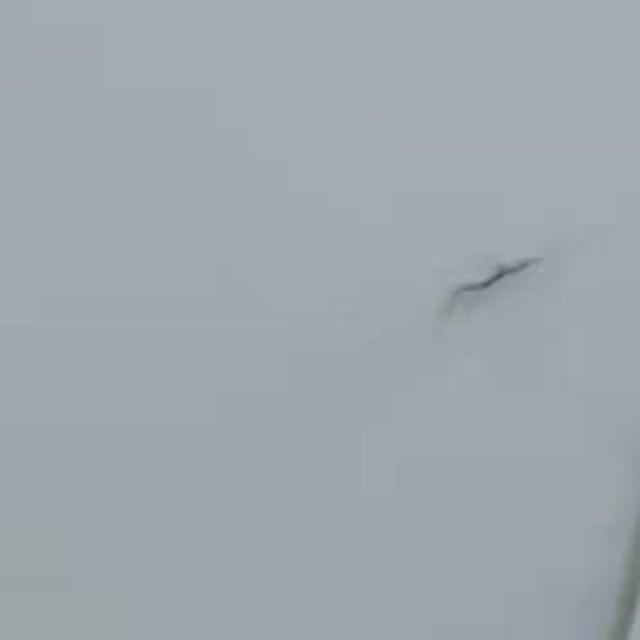crack: (453, 257, 541, 295)
